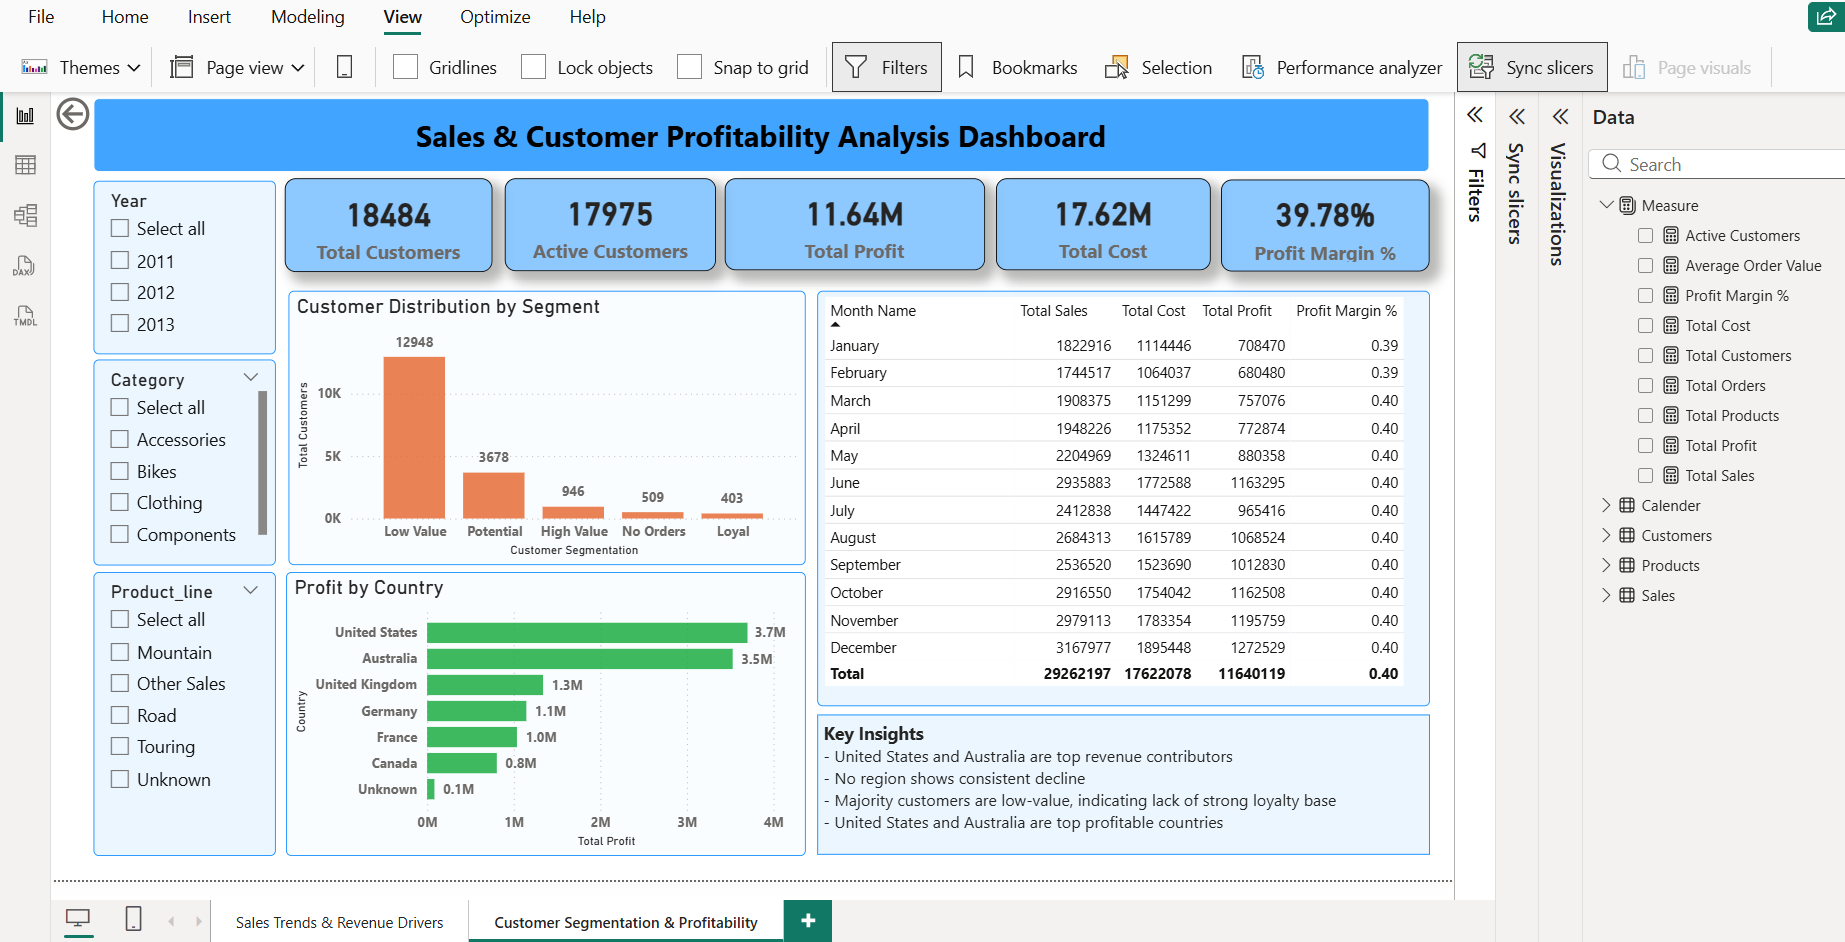

The page's visual inventory and layout, read from the dashboard file:
{"tool":"powerbi","page":{"name":"Customer Segmentation & Profitability","canvas":[1280,720],"ordinal":1},"visuals":[{"type":"card","fields":{"Values":["Measure.Total Customers"]},"box":[213.5,78.4,189.4,85.7],"z":0},{"type":"card","fields":{"Values":["Measure.Active Customers"]},"box":[413.8,78.4,193,84.5],"z":1000},{"type":"card","fields":{"Values":["Measure.Total Profit"]},"box":[615.1,78.3,237.2,84.4],"z":2000},{"type":"card","fields":{"Values":["Measure.Total Cost"]},"box":[862.1,78.3,195.7,84.4],"z":3000},{"type":"clusteredColumnChart","title":"Customer Distribution by Segment","fields":{"Category":["Customers.Customer Segmentation"],"Y":["Measure.Total Customers"]},"box":[216.4,181,472,250.7],"z":4000},{"type":"clusteredBarChart","title":"Profit by Country","fields":{"Category":["Customers.Country"],"Y":["Measure.Total Profit"]},"box":[214,437.8,474.5,259.2],"z":5000},{"type":"tableEx","title":"Revenue, Cost and Profit by Month","fields":{"Values":["Calender.Date Hierarchy.Month Name","Measure.Total Sales","Measure.Total Cost","Measure.Total Profit","Measure.Profit Margin %"]},"box":[699.5,181,558.8,379.1],"z":6000},{"type":"slicer","fields":{"Values":["Calender.Year"]},"box":[38.6,80.8,166.5,158],"z":7000},{"type":"slicer","fields":{"Values":["Products.category"]},"box":[38.6,243.7,166.5,188.2],"z":8000},{"type":"slicer","fields":{"Values":["Products.product_line"]},"box":[39.1,437.8,166.3,259.2],"z":9000},{"type":"card","fields":{"Values":["Measure.Profit Margin %"]},"box":[1067.5,79.5,190.8,84.4],"z":10000},{"type":"actionButton","box":[0,0,100,40],"z":11000},{"type":"actionButton","title":"Sales & Customer Profitability Analysis Dashboard","box":[39.1,6.1,1219.2,67.3],"z":12000},{"type":"textbox","box":[699.5,568.6,558.8,128.4],"z":13000}]}

Visuals, with their boxes on the page's 1280x720 design canvas (x1, y1, x2, y2). These are canvas units, not pixel positions in the 1845x942 screenshot, which may show the page scaled, cropped or inside an application window:
card - Measure.Total Customers: {"x1": 214, "y1": 78, "x2": 403, "y2": 164}
card - Measure.Active Customers: {"x1": 414, "y1": 78, "x2": 607, "y2": 163}
card - Measure.Total Profit: {"x1": 615, "y1": 78, "x2": 852, "y2": 163}
card - Measure.Total Cost: {"x1": 862, "y1": 78, "x2": 1058, "y2": 163}
"Customer Distribution by Segment" clusteredColumnChart: {"x1": 216, "y1": 181, "x2": 688, "y2": 432}
"Profit by Country" clusteredBarChart: {"x1": 214, "y1": 438, "x2": 688, "y2": 697}
"Revenue, Cost and Profit by Month" tableEx: {"x1": 700, "y1": 181, "x2": 1258, "y2": 560}
slicer - Calender.Year: {"x1": 39, "y1": 81, "x2": 205, "y2": 239}
slicer - Products.category: {"x1": 39, "y1": 244, "x2": 205, "y2": 432}
slicer - Products.product_line: {"x1": 39, "y1": 438, "x2": 205, "y2": 697}
card - Measure.Profit Margin %: {"x1": 1068, "y1": 80, "x2": 1258, "y2": 164}
actionButton: {"x1": 0, "y1": 0, "x2": 100, "y2": 40}
"Sales & Customer Profitability Analysis Dashboard" actionButton: {"x1": 39, "y1": 6, "x2": 1258, "y2": 73}
textbox: {"x1": 700, "y1": 569, "x2": 1258, "y2": 697}
